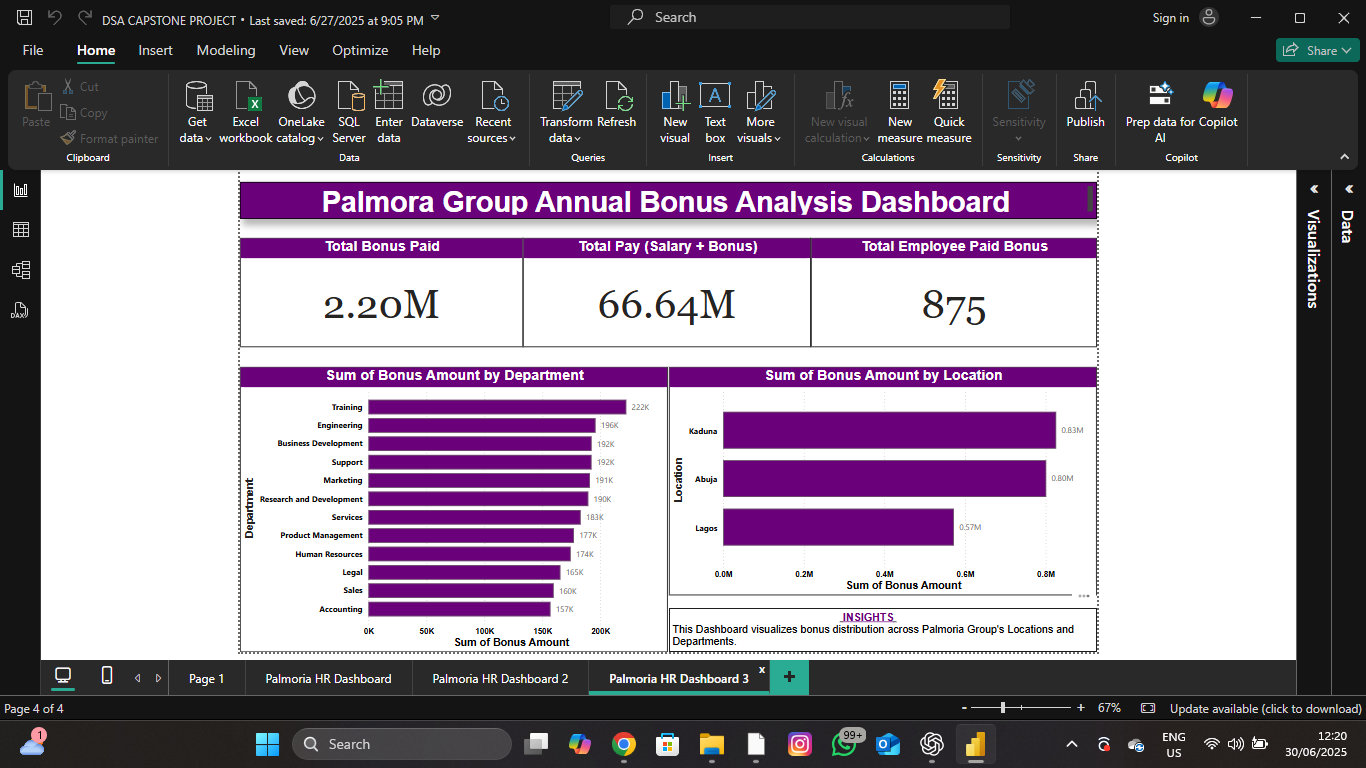

What the dashboard file says about the page in this screenshot:
{"tool":"powerbi","page":{"name":"Palmoria HR Dashboard 3","canvas":[1280,720],"ordinal":3},"visuals":[{"type":"card","title":"Total Bonus Paid","fields":{"Values":["Palmoria Group emp-data.Bonus Amount"]},"box":[0,101.6,422.7,162.8],"z":0},{"type":"clusteredBarChart","fields":{"Category":["Palmoria Group emp-data.Location"],"Y":["Palmoria Group emp-data.Bonus Amount"]},"box":[640.8,294.3,639.3,340.6],"z":1000},{"type":"card","title":"Total Pay (Salary + Bonus)","fields":{"Values":["Palmoria Group emp-data.Total Pay"]},"box":[422.7,101.6,430.2,162.8],"z":2000},{"type":"card","title":"Total Employee Paid Bonus","fields":{"Values":["Palmoria Group emp-data.Name"]},"box":[852.9,101.6,427.2,162.8],"z":3000},{"type":"clusteredBarChart","fields":{"Category":["Palmoria Group emp-data.Department"],"Y":["Palmoria Group emp-data.Bonus Amount"]},"box":[0,294.3,639.3,425.7],"z":4000},{"type":"textbox","box":[0,17.9,1280.2,55],"z":5000},{"type":"textbox","box":[640.8,654.3,639.3,65.7],"z":6000}]}

Visuals, with their boxes on the page's 1280x720 design canvas (x1, y1, x2, y2). These are canvas units, not pixel positions in the 1366x768 screenshot, which may show the page scaled, cropped or inside an application window:
"Total Bonus Paid" card: {"left": 0, "top": 102, "right": 423, "bottom": 264}
clusteredBarChart - Palmoria Group emp-data.Location x Palmoria Group emp-data.Bonus Amount: {"left": 641, "top": 294, "right": 1280, "bottom": 635}
"Total Pay (Salary + Bonus)" card: {"left": 423, "top": 102, "right": 853, "bottom": 264}
"Total Employee Paid Bonus" card: {"left": 853, "top": 102, "right": 1280, "bottom": 264}
clusteredBarChart - Palmoria Group emp-data.Department x Palmoria Group emp-data.Bonus Amount: {"left": 0, "top": 294, "right": 639, "bottom": 720}
textbox: {"left": 0, "top": 18, "right": 1280, "bottom": 73}
textbox: {"left": 641, "top": 654, "right": 1280, "bottom": 720}
